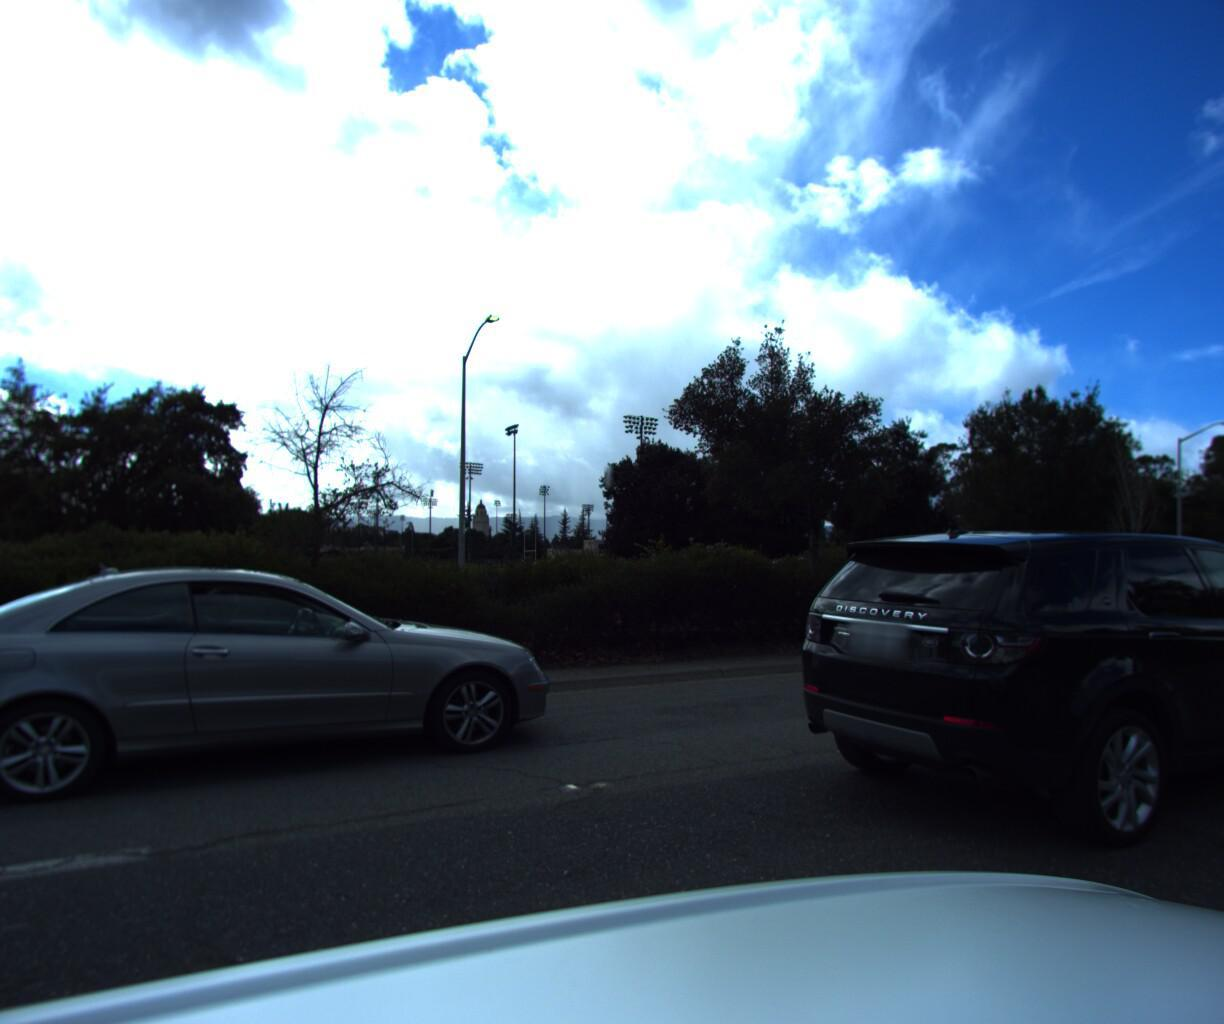car: (746, 508, 1224, 896), (0, 563, 550, 844)
